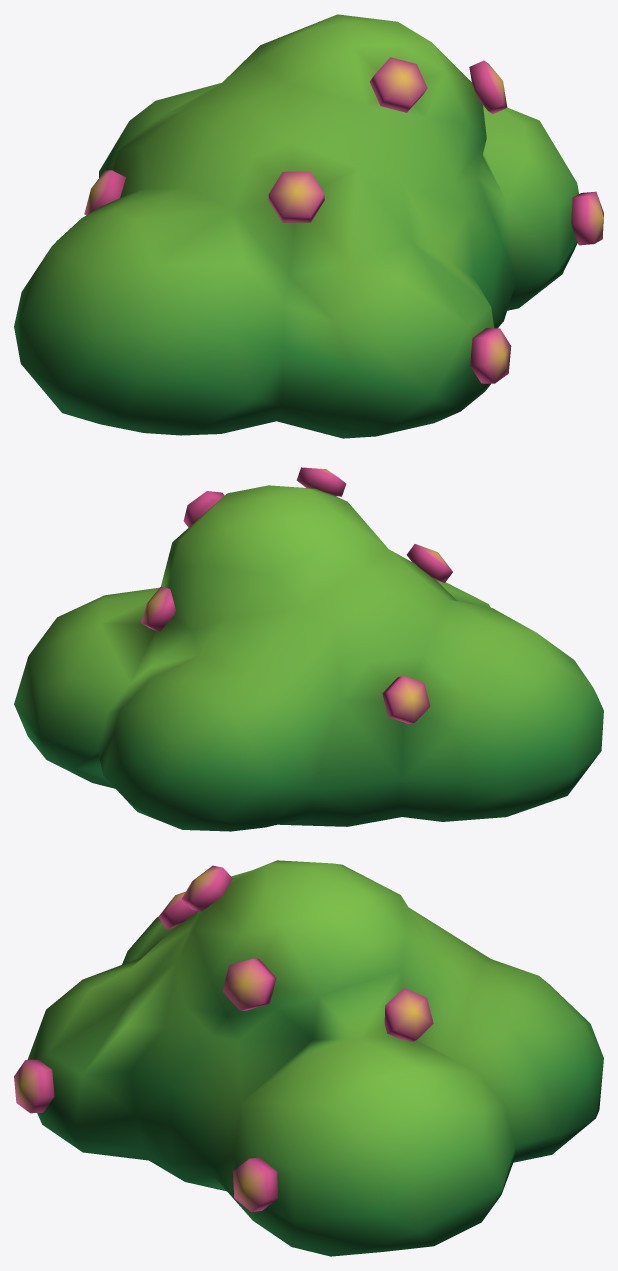
File: bush2.glb
3 views of the same model, one above another, from view 1: azimuth 30°, elevation 25°; view 2: azimuth 150°, elevation 25°; view 3: azimuth 270°, elevation 25° (orthographic). The views are drawn at different scales.
Parts seen in each view (by area): view 1: Bush; view 2: Bush; view 3: Bush.
Part boxes in pixels (x1,y1,x2,y2): Bush: (14, 14, 603, 438); Bush: (14, 467, 603, 831); Bush: (14, 860, 603, 1256).
Size of the model in its own units: 3.15 by 1.75 by 2.85.
